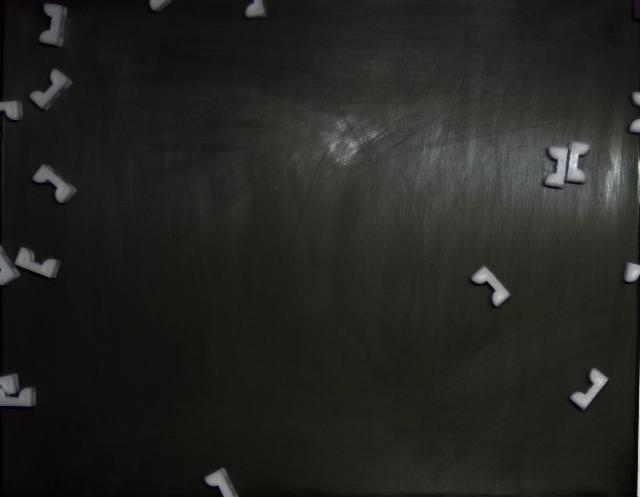third_side: (32, 165, 78, 204), (30, 69, 72, 110), (471, 266, 510, 308), (570, 369, 609, 410), (15, 248, 61, 279), (39, 4, 68, 46), (544, 146, 569, 189), (565, 141, 590, 184)
